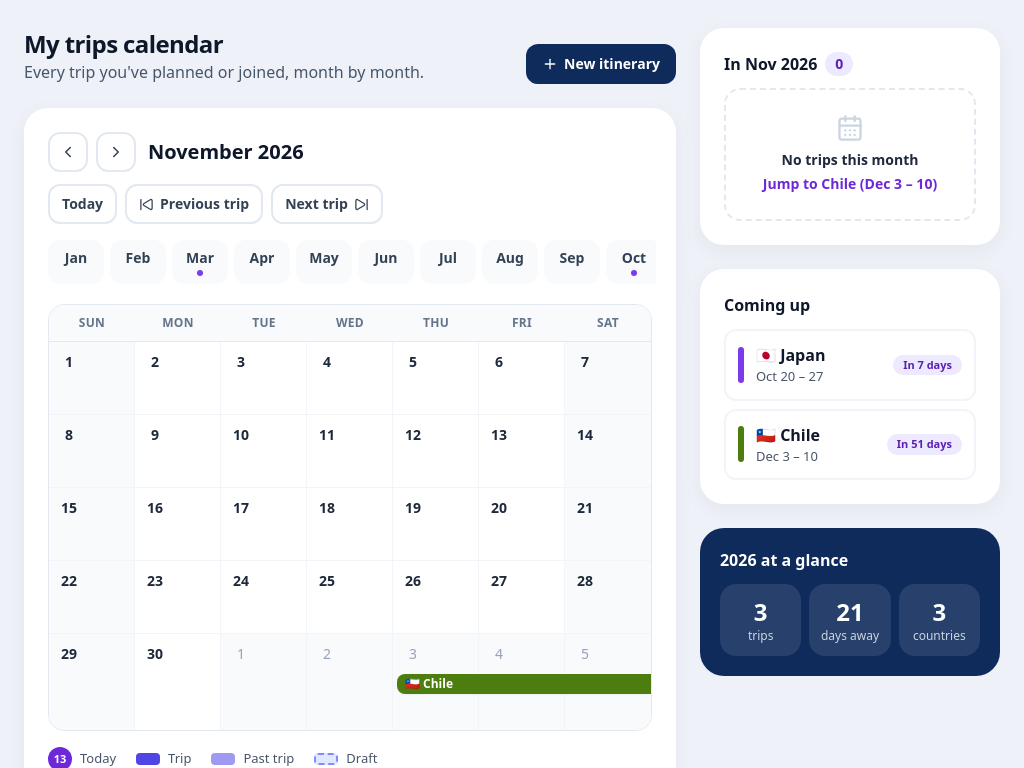
Test case: CalendarPage › empty months offer a jump to the next trip
The width and height of the screenshot is (1024, 768).
Expected: the text "No trips this month" is shown, [782,150,918,169]
Click the button "Jump to Chile (Dec 3 – 10)" at (850, 184), box [763,174,937,194]
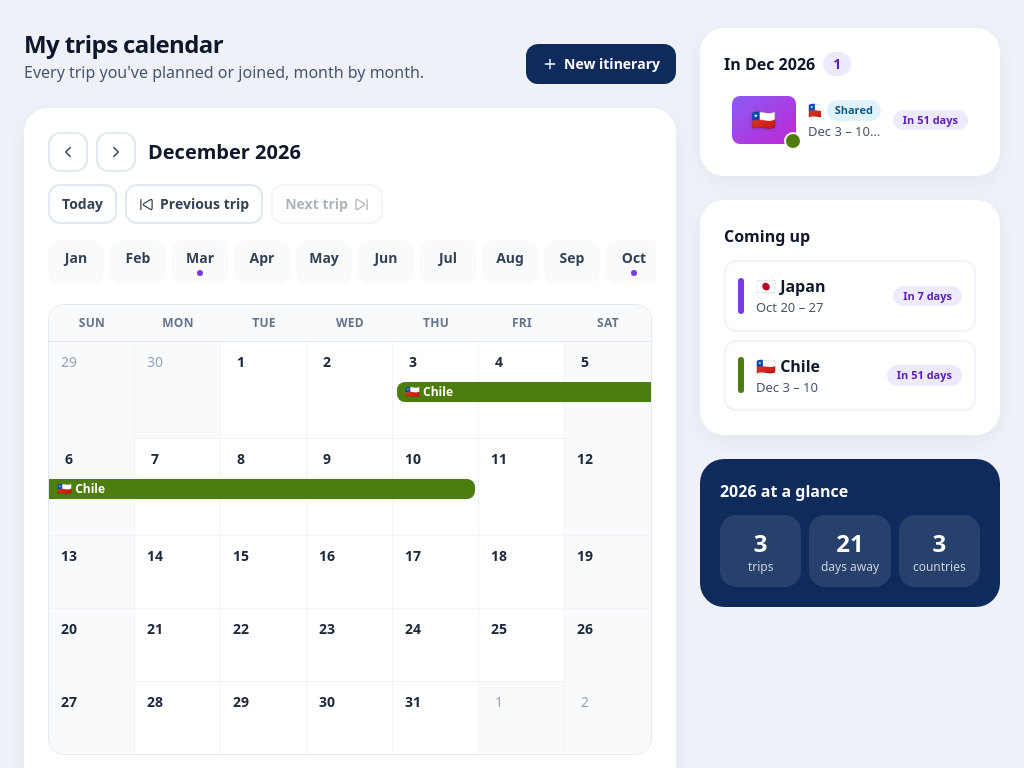
Result: the heading "December 2026" is shown at [148,138,308,166]
